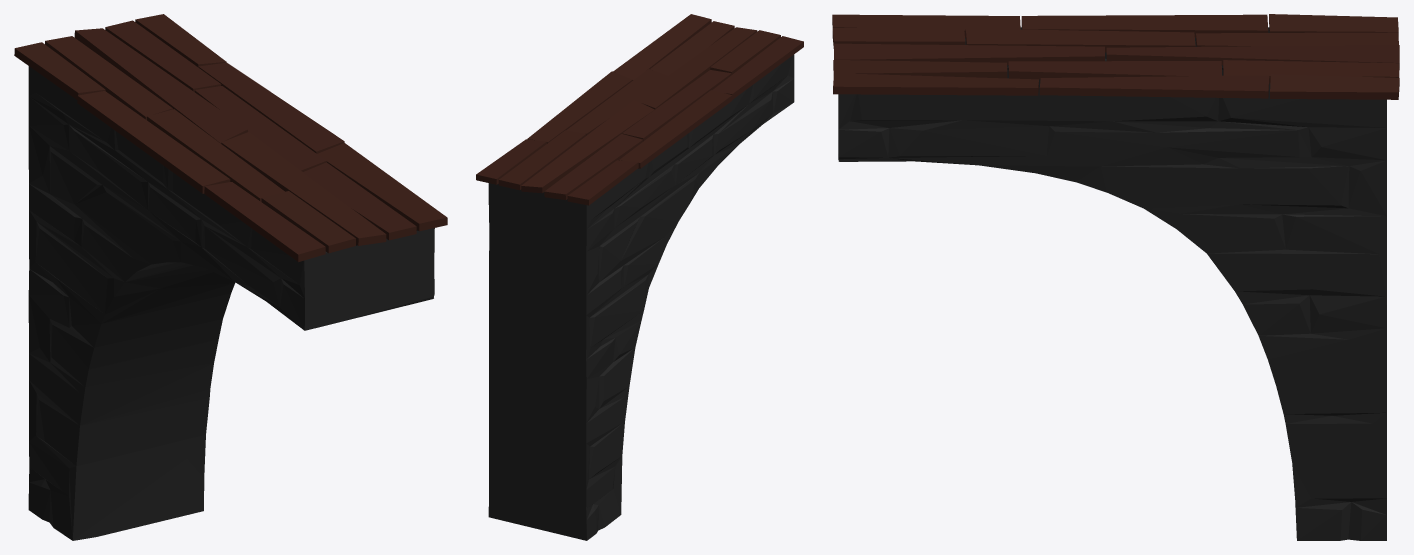
Rendered from civilian_bridge_2_b.FBX.
3 views of the same model, side by side, from view 1: azimuth 30°, elevation 25°; view 2: azimuth 150°, elevation 25°; view 3: azimuth 270°, elevation 25° (orthographic). The views are drawn at different scales.
Visible parts, largest first — view 1: civilian_bridge_2_b; view 2: civilian_bridge_2_b; view 3: civilian_bridge_2_b.
Boxes of the visible parts, <box> form: civilian_bridge_2_b: <box>14,14,447,540</box>; civilian_bridge_2_b: <box>476,14,803,540</box>; civilian_bridge_2_b: <box>832,14,1399,540</box>.
Size of the model in its own units: 211 by 612 by 682.
